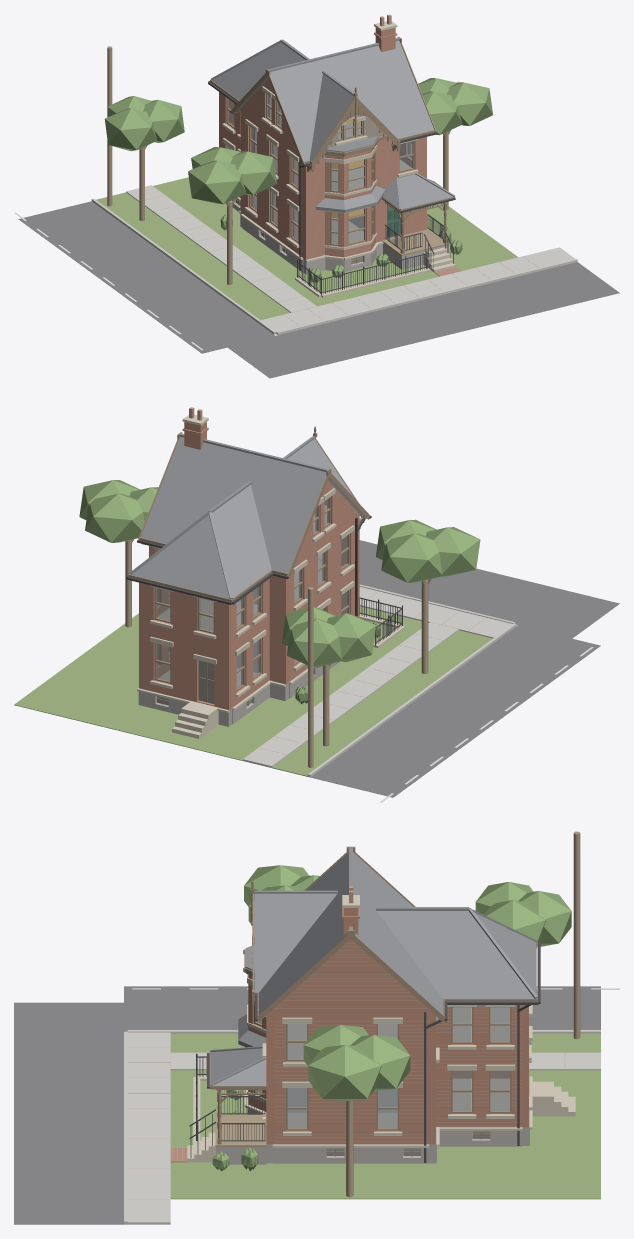
Rendered from clay-toronto-bay-and-gable-house-clay-v002.glb.
3 views of the same model, one above another, from view 1: azimuth 30°, elevation 25°; view 2: azimuth 150°, elevation 25°; view 3: azimuth 270°, elevation 25° (orthographic). The views are drawn at different scales.
Visible parts, largest first — view 1: CLAY_ASPHALT, CLAY_ROOF, CLAY_GRASS, CLAY_WALL, CLAY_PAVING, CLAY_PLANTING, CLAY_TRIM, CLAY_STONE, CLAY_HARDWARE, CLAY_TIMBER, CLAY_GLASS, CLAY_FOUNDATION (+3 smaller); view 2: CLAY_ASPHALT, CLAY_ROOF, CLAY_GRASS, CLAY_WALL, CLAY_PLANTING, CLAY_PAVING, CLAY_TRIM, CLAY_STONE, CLAY_GLASS, CLAY_TIMBER, CLAY_FOUNDATION, CLAY_HARDWARE (+3 smaller); view 3: CLAY_ASPHALT, CLAY_GRASS, CLAY_ROOF, CLAY_WALL, CLAY_PLANTING, CLAY_PAVING, CLAY_STONE, CLAY_TRIM, CLAY_GLASS, CLAY_JOINT, CLAY_FOUNDATION, CLAY_FLOOR (+3 smaller).
Part boxes in pixels (<box>): CLAY_ASPHALT: <box>18,201,619,378</box>; CLAY_ROOF: <box>211,37,454,212</box>; CLAY_GRASS: <box>96,177,517,320</box>; CLAY_WALL: <box>219,79,426,259</box>; CLAY_PAVING: <box>91,185,577,334</box>; CLAY_PLANTING: <box>104,78,492,282</box>; CLAY_TRIM: <box>210,36,455,263</box>; CLAY_STONE: <box>222,21,455,297</box>; CLAY_HARDWARE: <box>208,81,455,294</box>; CLAY_TIMBER: <box>107,46,456,284</box>; CLAY_GLASS: <box>228,95,412,263</box>; CLAY_FOUNDATION: <box>232,197,448,274</box>; CLAY_ASPHALT: <box>310,540,619,797</box>; CLAY_ROOF: <box>130,433,366,599</box>; CLAY_GRASS: <box>14,606,492,776</box>; CLAY_WALL: <box>139,480,359,709</box>; CLAY_PLANTING: <box>79,480,480,704</box>; CLAY_PAVING: <box>243,584,516,777</box>; CLAY_TRIM: <box>129,426,370,705</box>; CLAY_STONE: <box>137,414,405,738</box>; CLAY_GLASS: <box>156,498,347,705</box>; CLAY_TIMBER: <box>125,539,431,767</box>; CLAY_FOUNDATION: <box>138,661,340,726</box>; CLAY_HARDWARE: <box>126,516,402,645</box>; CLAY_ASPHALT: <box>14,986,600,1224</box>; CLAY_GRASS: <box>170,1033,600,1199</box>; CLAY_ROOF: <box>210,847,537,1086</box>; CLAY_WALL: <box>248,939,528,1144</box>; CLAY_PLANTING: <box>212,865,571,1171</box>; CLAY_PAVING: <box>124,1030,600,1224</box>; CLAY_STONE: <box>187,895,575,1162</box>; CLAY_TRIM: <box>209,846,537,1156</box>; CLAY_GLASS: <box>256,1002,509,1155</box>; CLAY_JOINT: <box>128,943,565,1199</box>; CLAY_FOUNDATION: <box>216,1076,529,1164</box>; CLAY_FLOOR: <box>257,1007,509,1128</box>.
Bounding box in the file's own units: 23.55 × 12.42 × 25.35.
